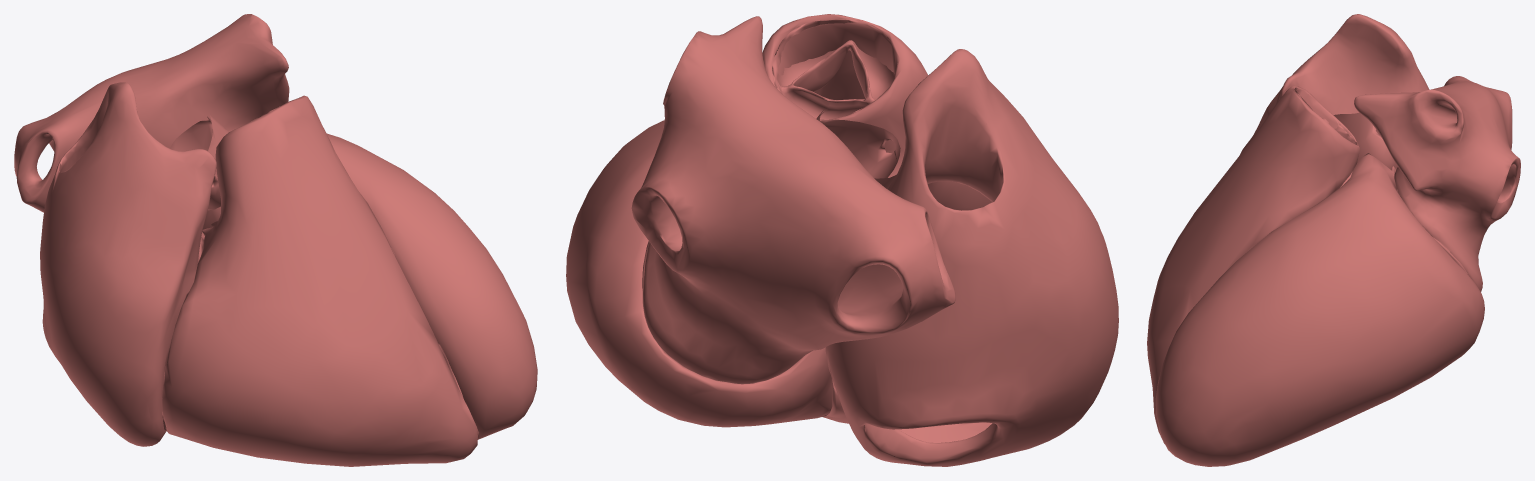
Rendered from vh_m_heart.glb.
3 views of the same model, side by side, from view 1: azimuth 30°, elevation 25°; view 2: azimuth 150°, elevation 25°; view 3: azimuth 270°, elevation 25° (orthographic). The views are drawn at different scales.
Visible parts, largest first — view 1: VH_M_heart_right_ventricle, VH_M_right_cardiac_atrium, VH_M_heart_left_ventricle, VH_M_left_cardiac_atrium, VH_M_aortic_valve; view 2: VH_M_left_cardiac_atrium, VH_M_right_cardiac_atrium, VH_M_heart_left_ventricle, VH_M_heart_right_ventricle, VH_M_pulmonary_valve, VH_M_aortic_valve; view 3: VH_M_heart_left_ventricle, VH_M_heart_right_ventricle, VH_M_left_cardiac_atrium, VH_M_right_cardiac_atrium, VH_M_aortic_valve.
Boxes of the visible parts, x1=… form: VH_M_heart_right_ventricle: x1=162, y1=95, x2=477, y2=466; VH_M_right_cardiac_atrium: x1=40, y1=82, x2=216, y2=446; VH_M_heart_left_ventricle: x1=202, y1=133, x2=537, y2=439; VH_M_left_cardiac_atrium: x1=14, y1=14, x2=289, y2=212; VH_M_aortic_valve: x1=170, y1=114, x2=229, y2=210; VH_M_left_cardiac_atrium: x1=631, y1=16, x2=955, y2=384; VH_M_right_cardiac_atrium: x1=825, y1=49, x2=1118, y2=466; VH_M_heart_left_ventricle: x1=566, y1=120, x2=833, y2=427; VH_M_heart_right_ventricle: x1=762, y1=14, x2=928, y2=423; VH_M_pulmonary_valve: x1=772, y1=19, x2=897, y2=119; VH_M_aortic_valve: x1=816, y1=108, x2=900, y2=188; VH_M_heart_left_ventricle: x1=1155, y1=153, x2=1484, y2=466; VH_M_heart_right_ventricle: x1=1147, y1=86, x2=1359, y2=443; VH_M_left_cardiac_atrium: x1=1354, y1=76, x2=1520, y2=291; VH_M_right_cardiac_atrium: x1=1240, y1=14, x2=1429, y2=154; VH_M_aortic_valve: x1=1334, y1=112, x2=1397, y2=169.
Size of the model in its own units: 0.1243 by 0.1054 by 0.1053.
